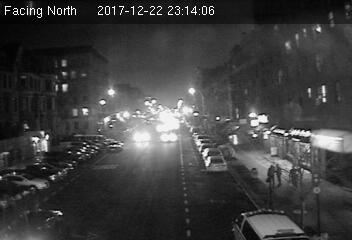car: (205, 155, 226, 170), (133, 129, 152, 144), (159, 131, 179, 143), (104, 140, 124, 151)
pedestrian: (266, 164, 277, 190)
police: (227, 206, 306, 240)
